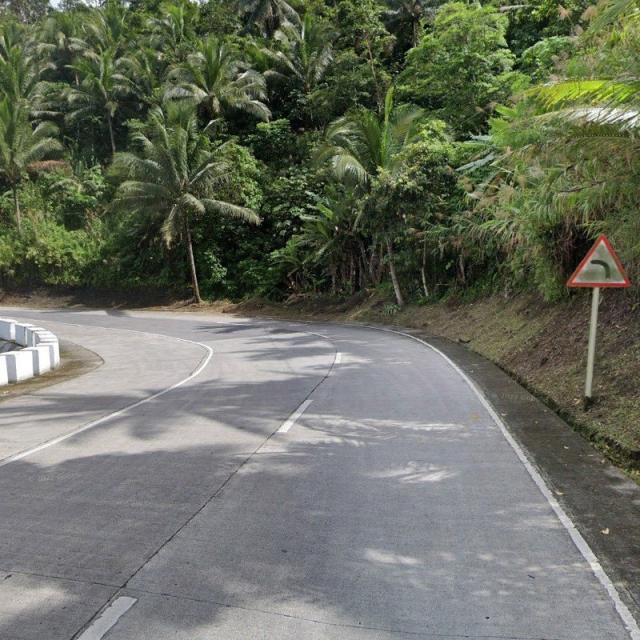warn_left_curve: (566, 234, 631, 288)
